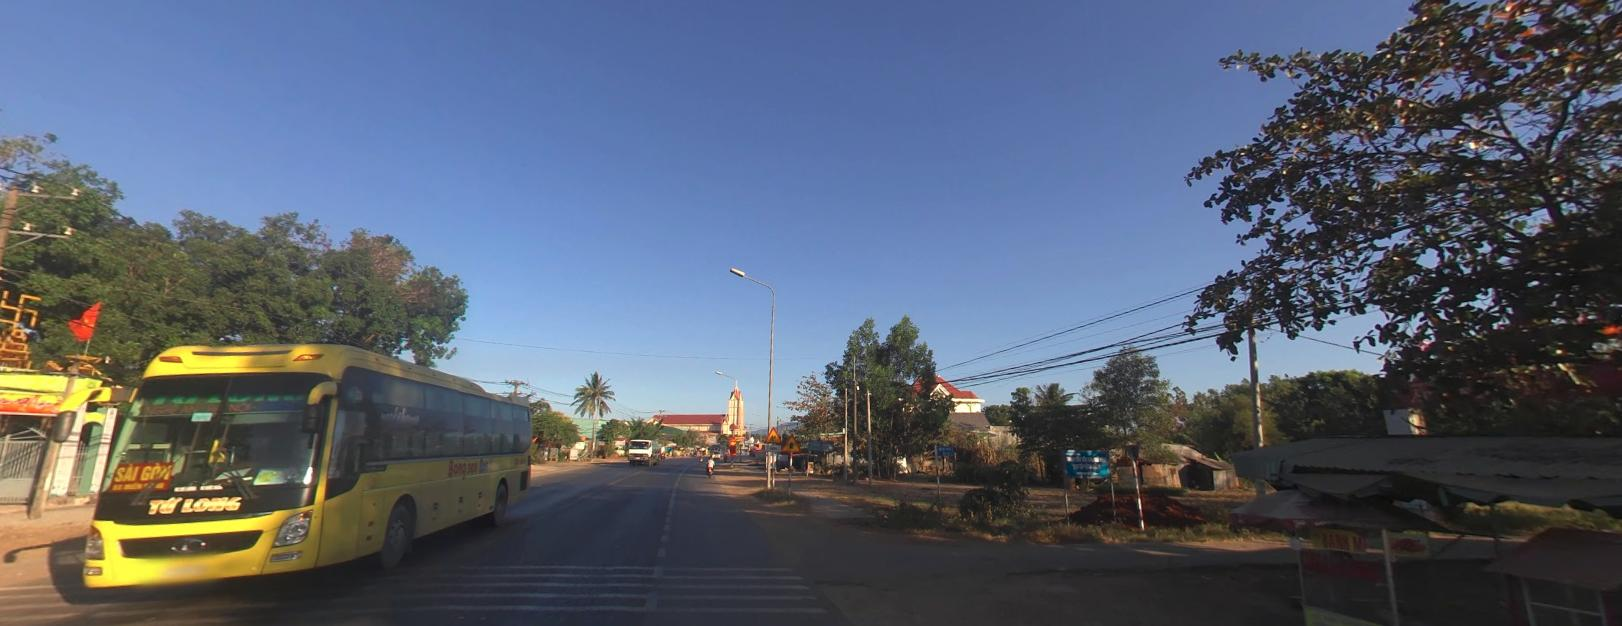Nguy hiem: (782, 433, 801, 451), (764, 425, 781, 442)
